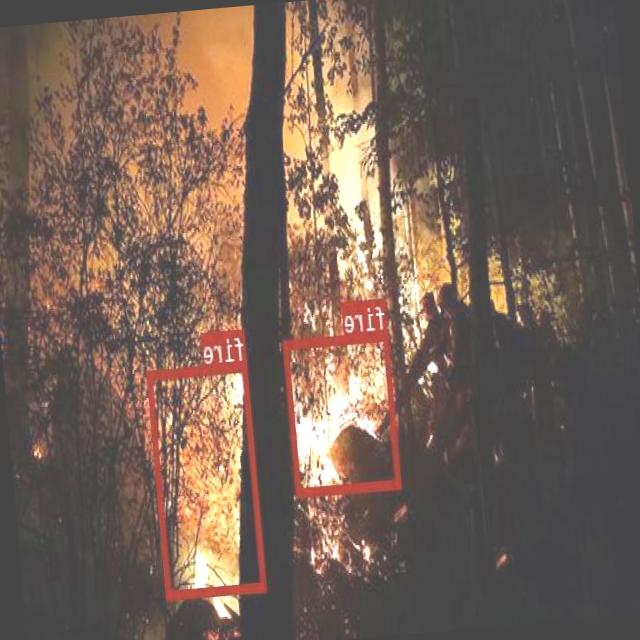fire: (148, 360, 268, 598), (284, 328, 401, 494)
